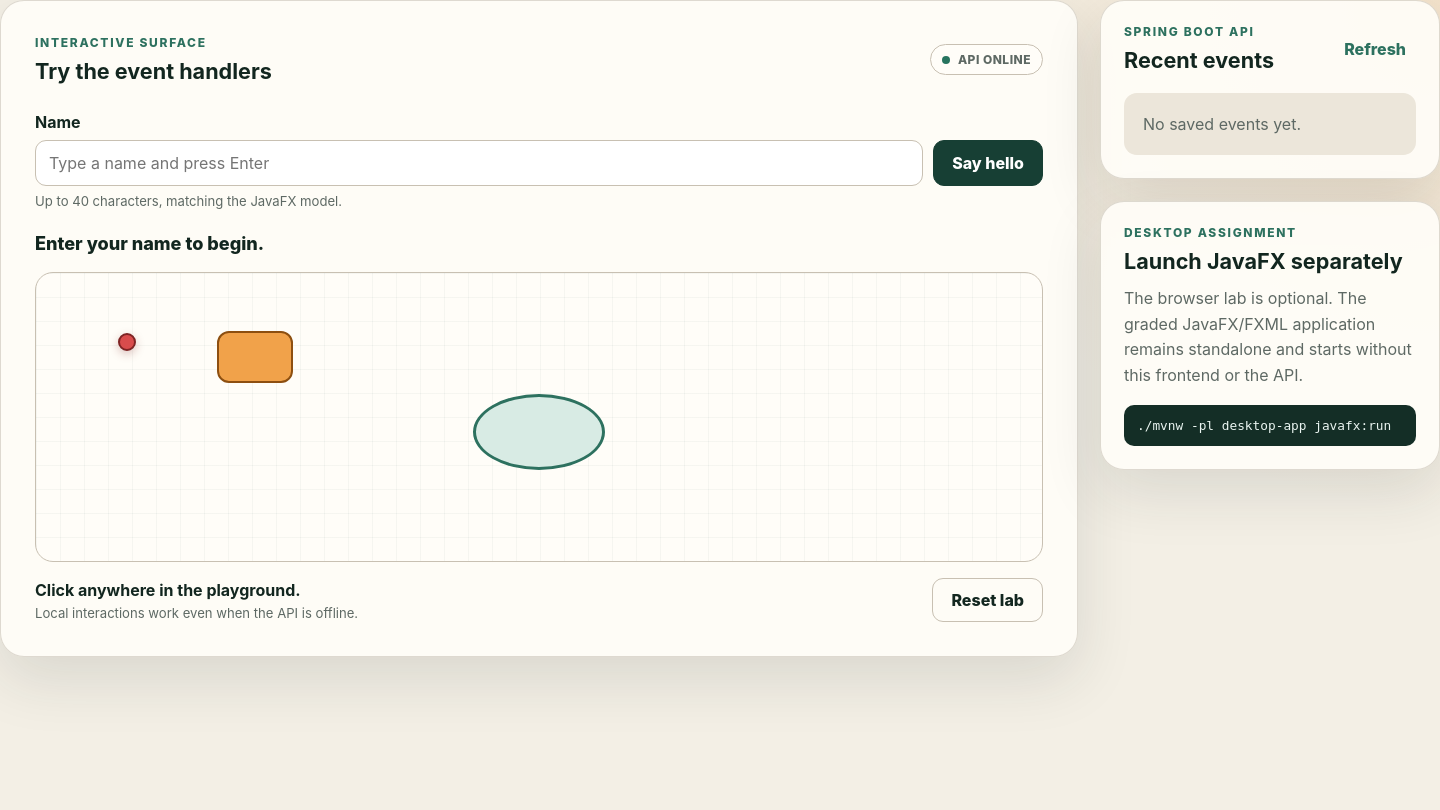
it: EventLab › greets the user and sends the observable event contract
expect the text "No saved events yet." is shown: met, box 1124,93 -> 1416,155
Type "  Ada  " into the field labelled "Name" at [479, 163], box 35,140 -> 923,186
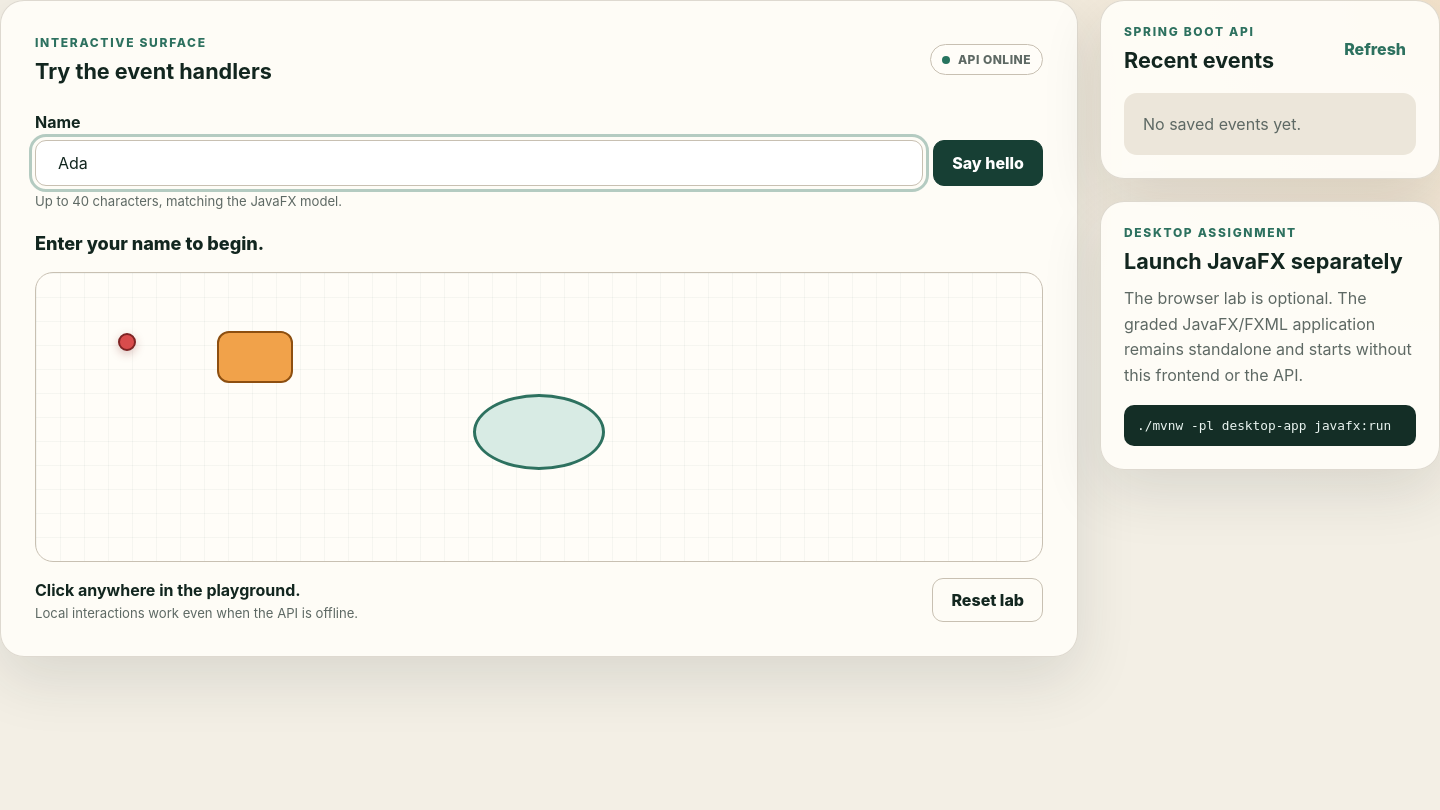
Click the button "Say hello" at [988, 163], box 933,140 -> 1043,186
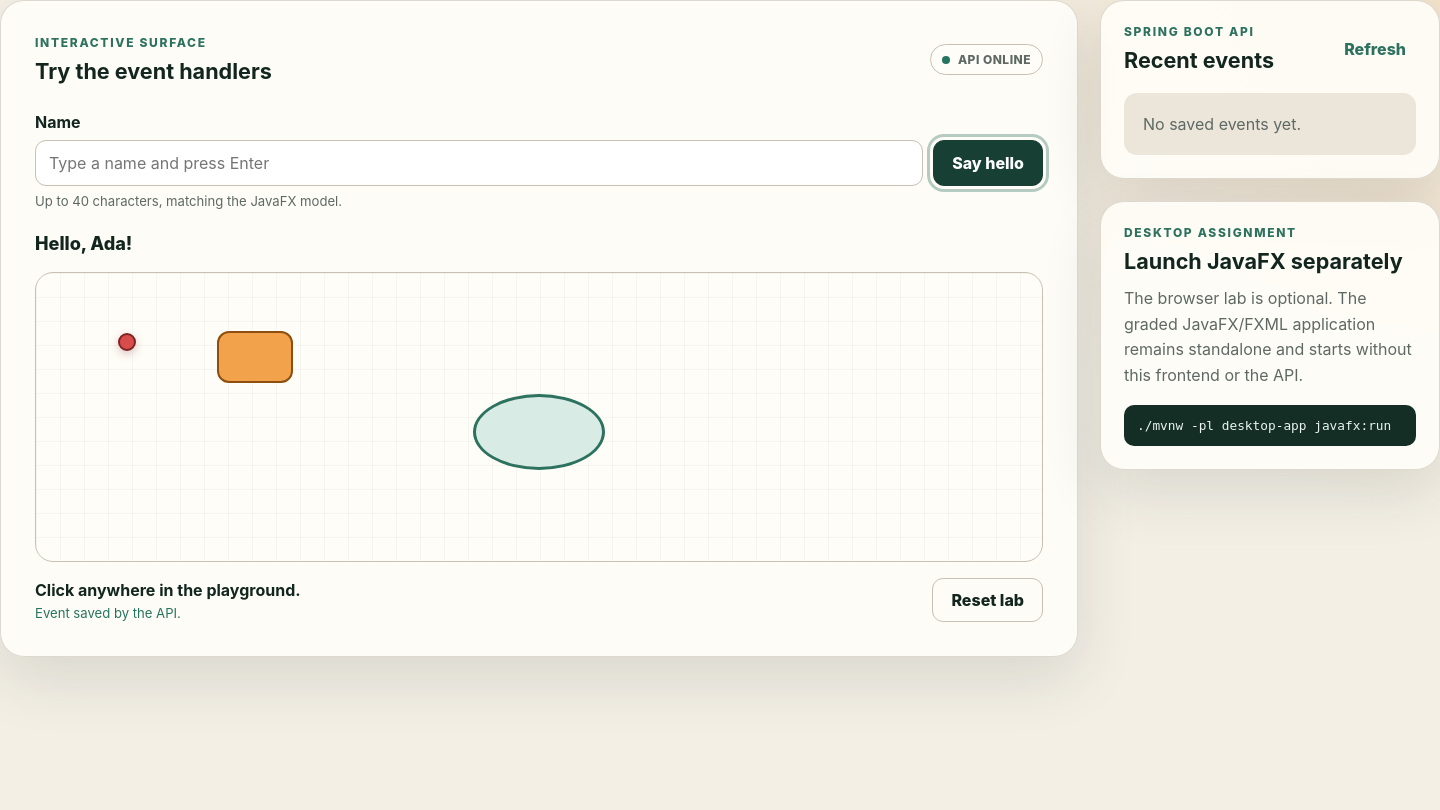
expect the text "Hello, Ada!" is shown: met, box 35,232 -> 132,254
expect the text "Event saved by the API." is shown: met, box 35,605 -> 181,621
